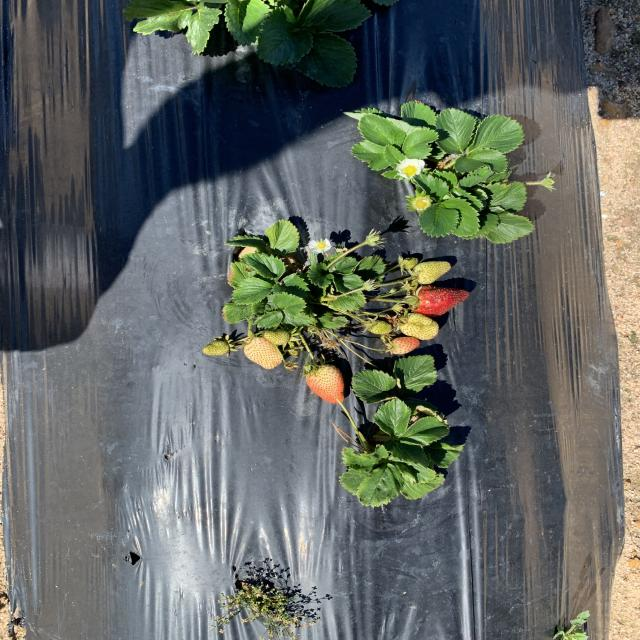unripe: (412, 286, 472, 314)
